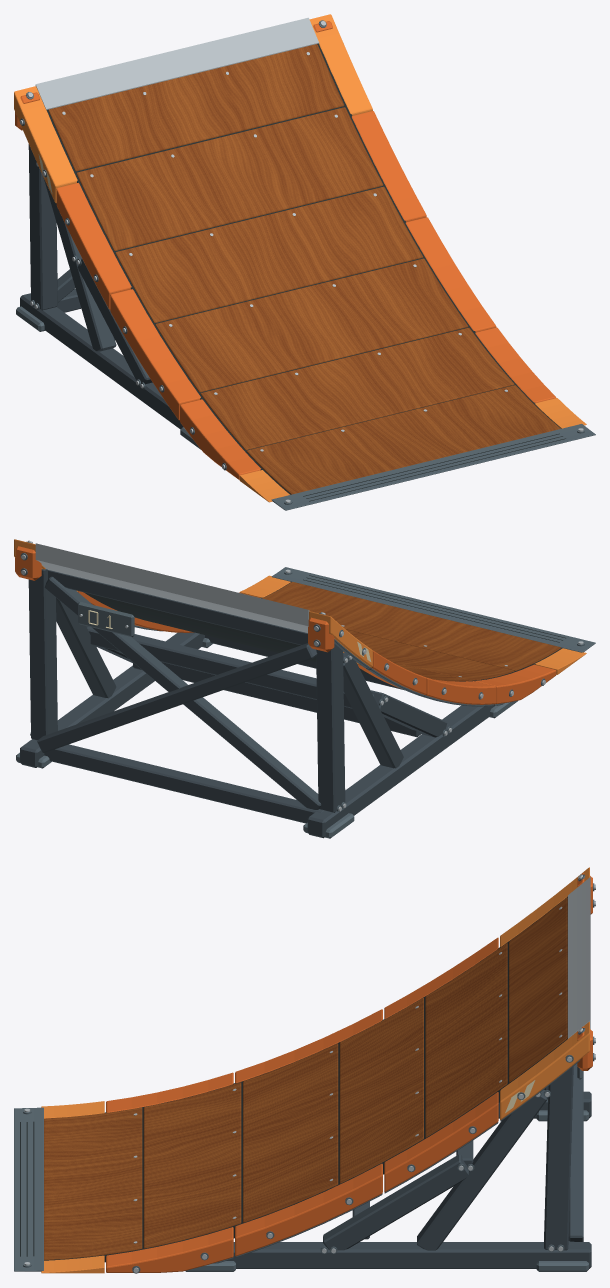
File: wsc-module-007-hover-kicker.glb
3 renders of one model, top to bottom at view 1: azimuth 30°, elevation 25°; view 2: azimuth 150°, elevation 25°; view 3: azimuth 270°, elevation 25°, orthographic. The views are drawn at different scales.
Visible parts, largest first — view 1: 06 | Laminated birch riding panels, 03 | Fired orange enamel, 01 | Powder-coated iron, 05 | Brushed zinc hardware, 04 | Worn enamel end fittings, 02 | Graphite end caps, 07 | Rubber seam and inset; view 2: 01 | Powder-coated iron, 06 | Laminated birch riding panels, 02 | Graphite end caps, 05 | Brushed zinc hardware, 03 | Fired orange enamel, 07 | Rubber seam and inset, 04 | Worn enamel end fittings; view 3: 06 | Laminated birch riding panels, 01 | Powder-coated iron, 03 | Fired orange enamel, 02 | Graphite end caps, 04 | Worn enamel end fittings, 05 | Brushed zinc hardware, 07 | Rubber seam and inset.
Part boxes in pixels (<box>): 06 | Laminated birch riding panels: <box>48,44,560,494</box>; 03 | Fired orange enamel: <box>15,21,556,479</box>; 01 | Powder-coated iron: <box>20,144,183,429</box>; 05 | Brushed zinc hardware: <box>19,17,583,503</box>; 04 | Worn enamel end fittings: <box>14,14,586,502</box>; 02 | Graphite end caps: <box>16,20,595,510</box>; 07 | Rubber seam and inset: <box>46,43,565,501</box>; 01 | Powder-coated iron: <box>20,569,494,838</box>; 06 | Laminated birch riding panels: <box>262,582,561,681</box>; 02 | Graphite end caps: <box>16,541,595,838</box>; 05 | Brushed zinc hardware: <box>21,540,583,811</box>; 03 | Fired orange enamel: <box>15,546,556,704</box>; 07 | Rubber seam and inset: <box>84,575,565,681</box>; 04 | Worn enamel end fittings: <box>14,539,586,674</box>; 06 | Laminated birch riding panels: <box>44,897,567,1260</box>; 01 | Powder-coated iron: <box>226,1063,591,1268</box>; 03 | Fired orange enamel: <box>106,873,592,1272</box>; 02 | Graphite end caps: <box>14,874,594,1273</box>; 04 | Worn enamel end fittings: <box>41,867,589,1273</box>; 05 | Brushed zinc hardware: <box>24,874,595,1272</box>; 07 | Rubber seam and inset: <box>20,896,567,1262</box>.
Size of the model in its own units: 3.58 by 2.4 by 5.23.
8 materials, 1 textured.
